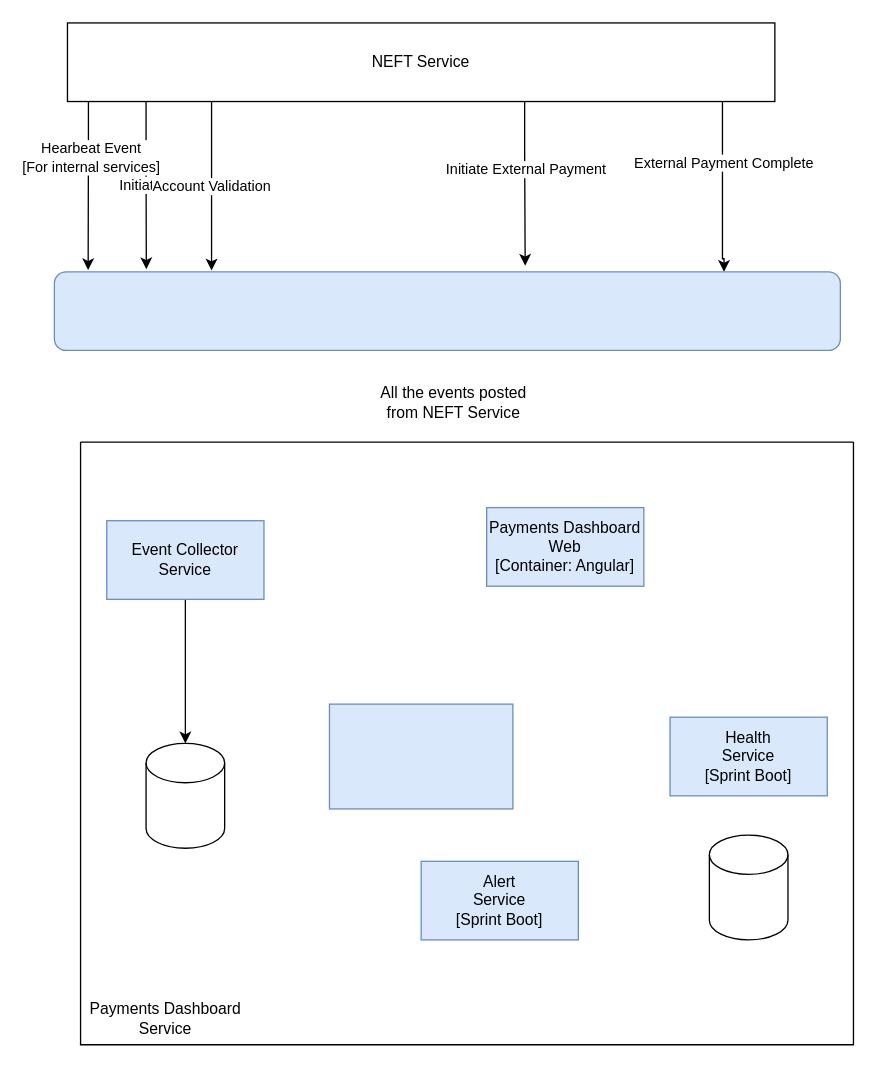
This 876x1068 diagram has some shape labels left out. The centre of each missing label's shape, as x and y in pixels:
"Messaging System [Container: Kafka]" belongs at [446,310].
"Payments Database" belongs at [185,795].
"Transaction Service [Sprint Boot] Transaction Overview, Transaction Insight" belongs at [420,756].
